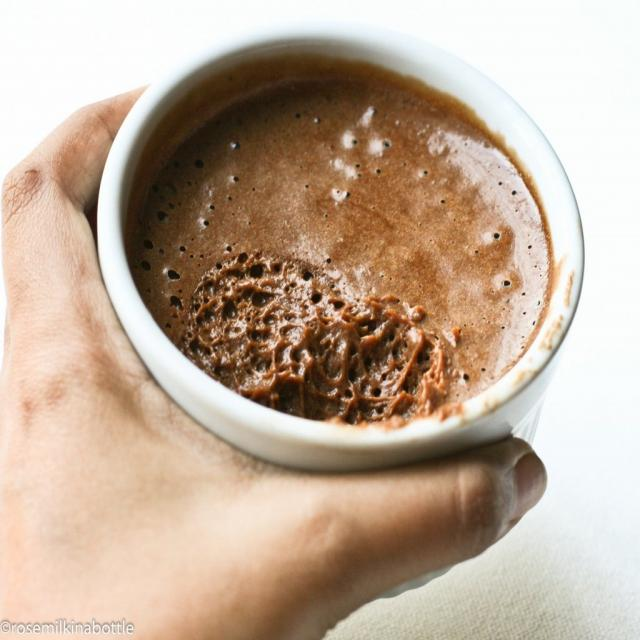Coffee: (103, 30, 598, 508)
